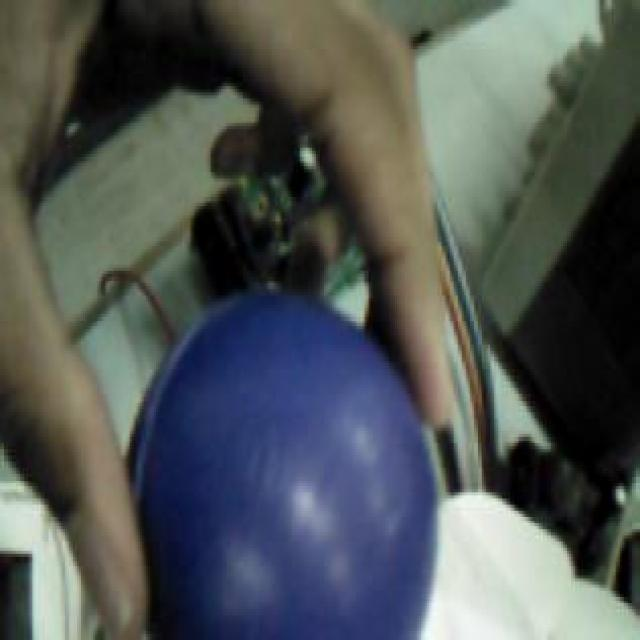BallPurple: (127, 288, 437, 640)
